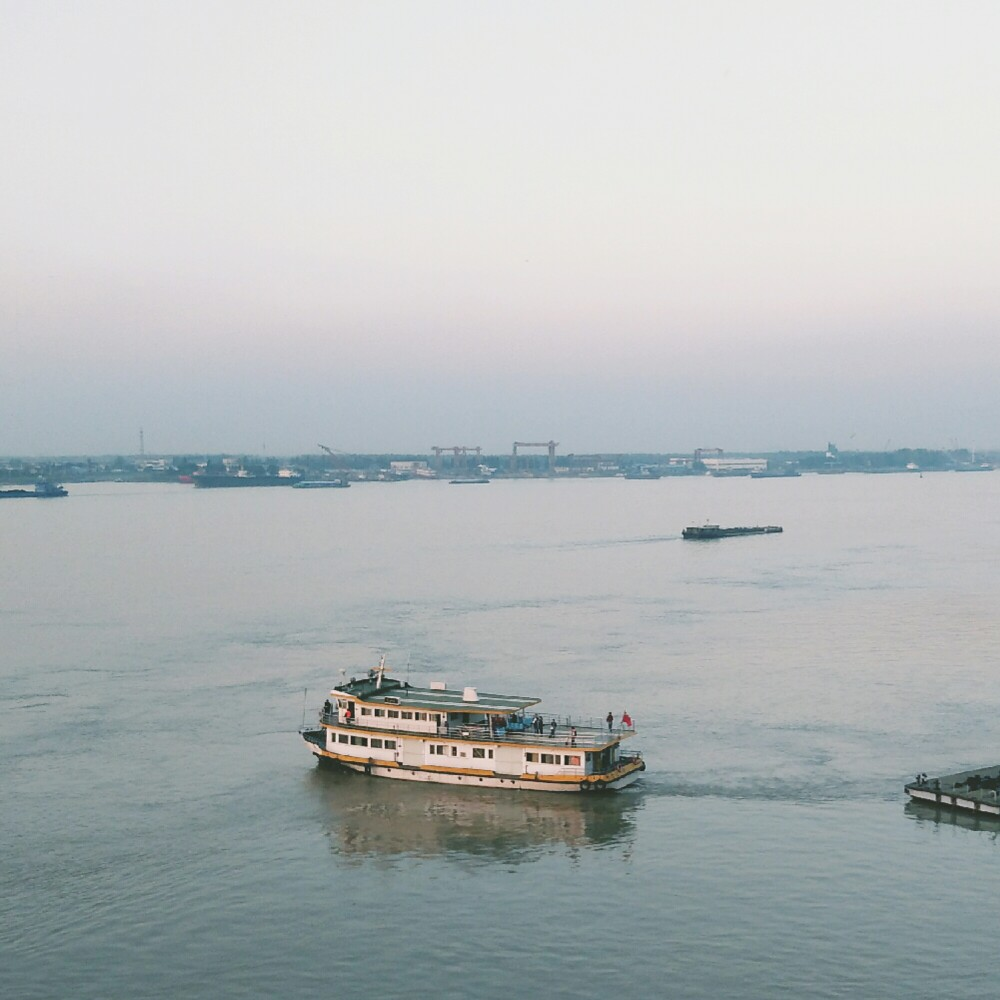boat: (292, 647, 652, 805)
